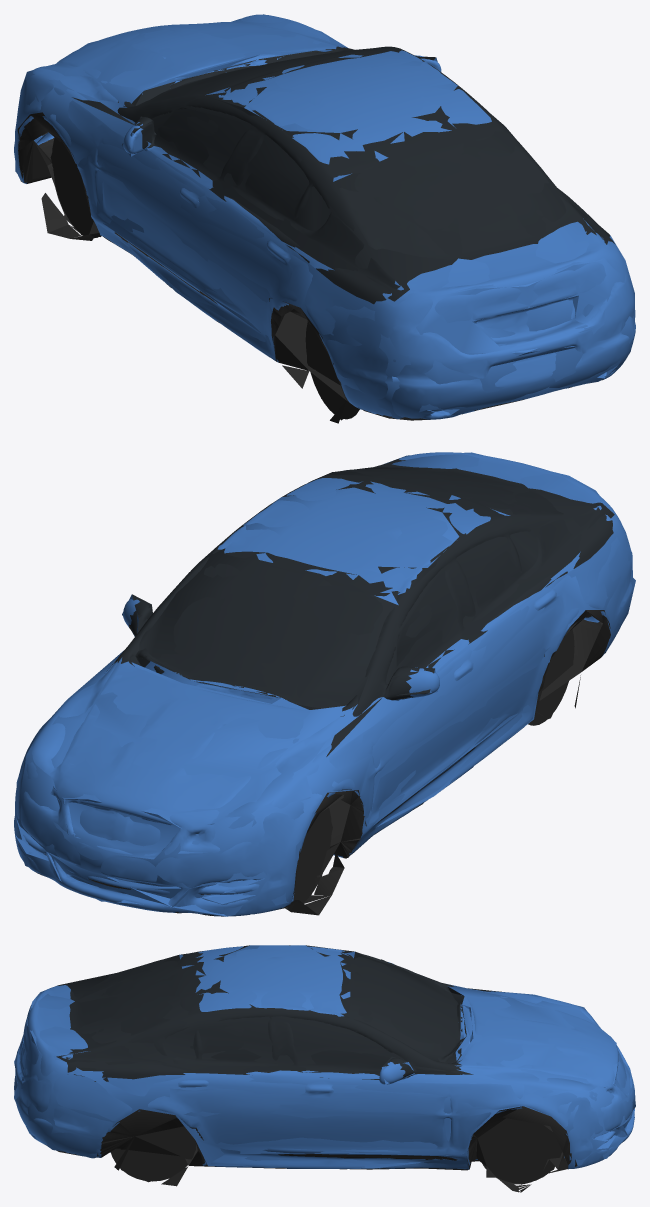
File: jaguar-xf.glb
The picture shows the model from 3 angles, top to bottom: view 1: azimuth 30°, elevation 25°; view 2: azimuth 150°, elevation 25°; view 3: azimuth 270°, elevation 25°; orthographic projection. The views are drawn at different scales.
Visible parts, largest first — view 1: body, far; view 2: body, far; view 3: body, far.
Boxes of the visible parts, x1=… form: body: x1=14, y1=14, x2=635, y2=420; far: x1=15, y1=14, x2=635, y2=423; body: x1=14, y1=452, x2=632, y2=916; far: x1=15, y1=452, x2=635, y2=916; body: x1=14, y1=945, x2=635, y2=1192; far: x1=14, y1=945, x2=635, y2=1184.
Bounding box in the file's own units: 2.17 × 1.58 × 5.06.
